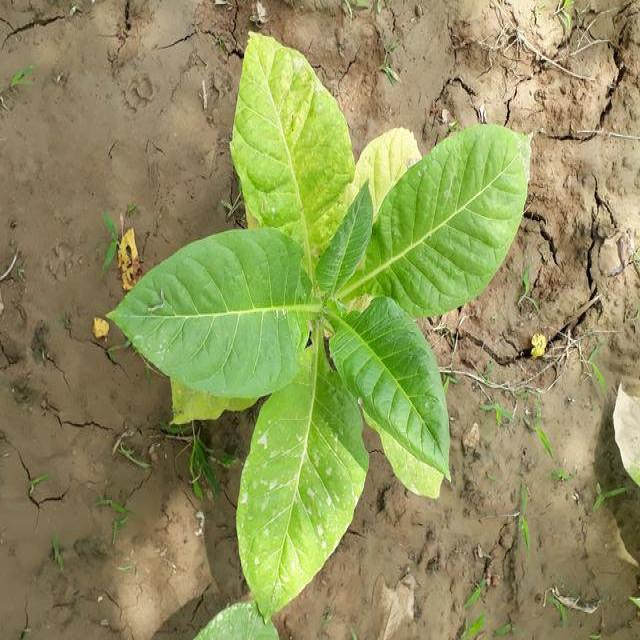crop: (126, 40, 528, 600)
